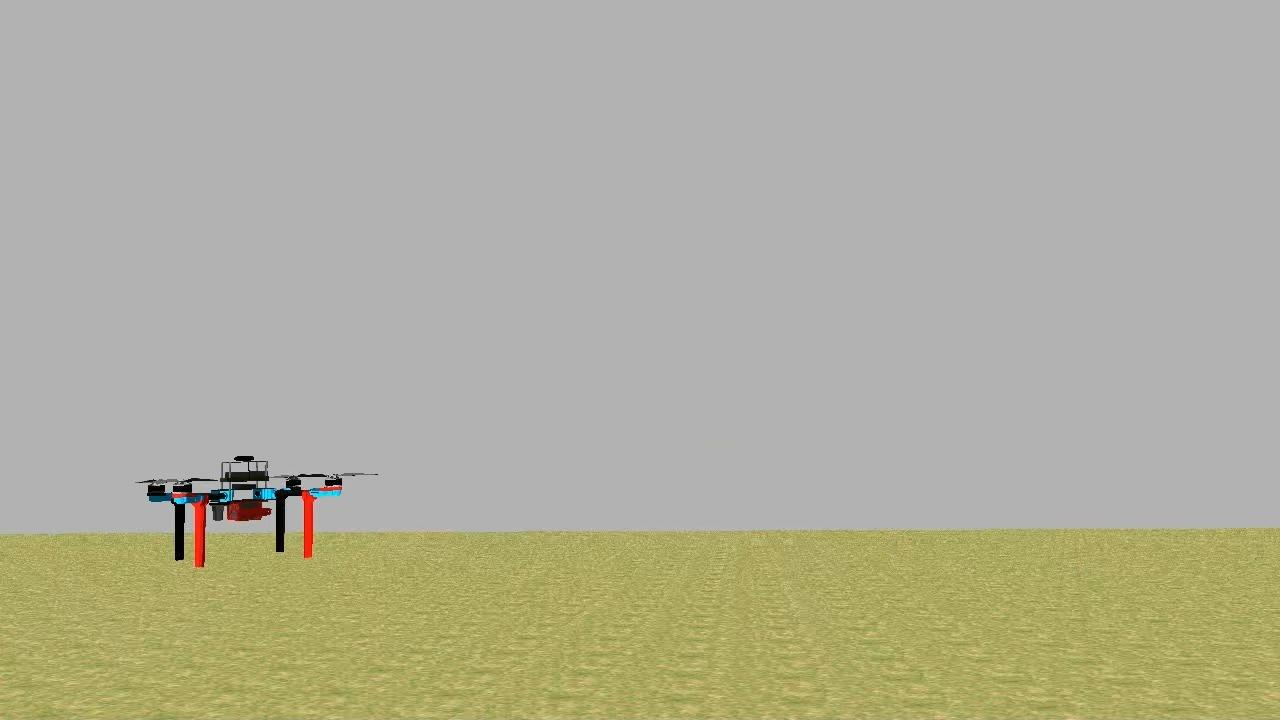UAV: (140, 450, 354, 572)
